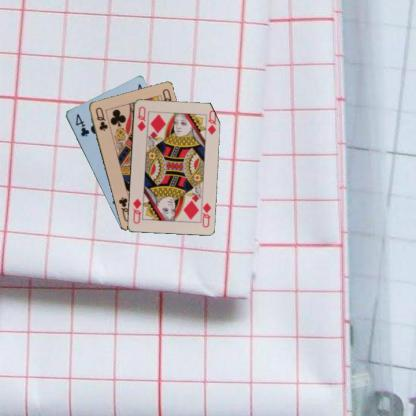4c: (72, 111, 91, 138)
Qc: (92, 104, 108, 132)
Qd: (198, 198, 212, 228), (134, 104, 146, 132)
